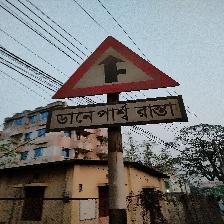Side-road-right: (47, 36, 187, 132)
